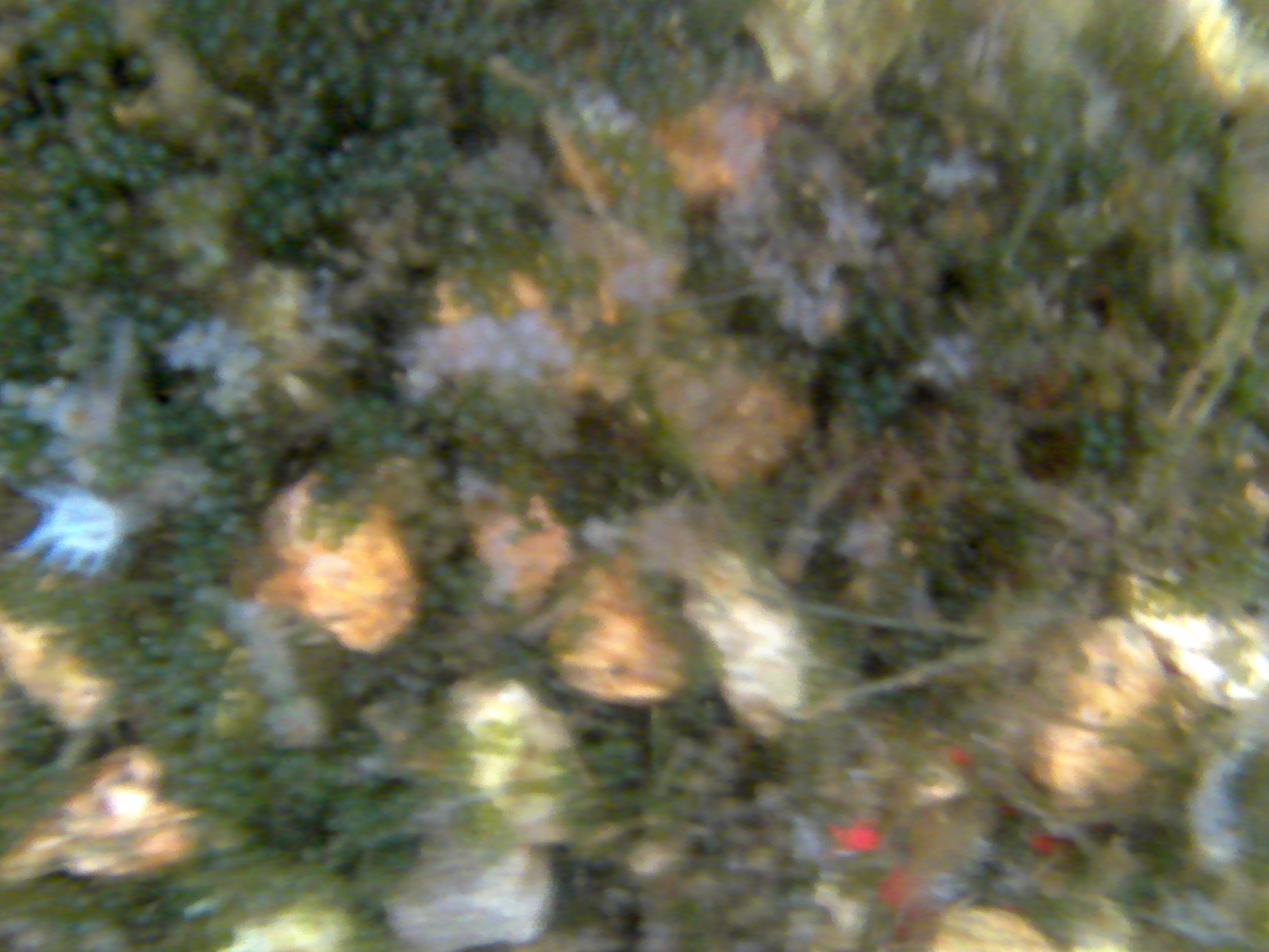Darkening: (754, 780, 785, 813)
Harvestable: (196, 739, 225, 765), (83, 60, 109, 86), (480, 424, 506, 449), (1043, 143, 1068, 167), (1017, 133, 1041, 158), (400, 67, 426, 90), (685, 47, 709, 71), (136, 293, 159, 317), (194, 493, 218, 516), (292, 18, 314, 43), (1084, 426, 1107, 449), (200, 34, 223, 57), (141, 419, 165, 441), (57, 26, 81, 48), (243, 171, 265, 194), (162, 304, 185, 326), (139, 442, 162, 464), (374, 90, 396, 112), (1133, 387, 1155, 409), (423, 588, 446, 609), (381, 430, 404, 451), (86, 155, 109, 176), (213, 471, 236, 492), (224, 423, 246, 444), (1104, 446, 1125, 468), (83, 88, 105, 109), (423, 214, 444, 236), (341, 135, 365, 154), (138, 322, 159, 343), (1078, 445, 1099, 466), (875, 373, 896, 394), (333, 468, 354, 489), (374, 65, 395, 86), (243, 45, 264, 66), (243, 210, 263, 232), (319, 197, 339, 219), (376, 143, 399, 162), (148, 143, 169, 163), (1103, 413, 1124, 433), (304, 76, 324, 97), (130, 56, 150, 77), (124, 167, 145, 187), (437, 194, 458, 214), (357, 436, 379, 455), (327, 152, 347, 172), (371, 110, 391, 130), (305, 157, 324, 178), (251, 413, 272, 432), (407, 141, 430, 158), (865, 318, 884, 338), (45, 196, 65, 215), (340, 195, 359, 215), (622, 142, 642, 161), (147, 166, 166, 185), (204, 429, 223, 448), (292, 199, 310, 219), (75, 186, 95, 204), (846, 382, 866, 400), (435, 144, 457, 160), (267, 160, 285, 179), (281, 67, 300, 85), (301, 109, 319, 128), (263, 227, 281, 246), (307, 42, 326, 60), (324, 62, 342, 81), (82, 200, 101, 218), (41, 332, 60, 350), (105, 162, 123, 180), (220, 452, 238, 469), (45, 158, 63, 175), (12, 97, 30, 114), (282, 178, 297, 198), (287, 45, 304, 62), (272, 123, 289, 139), (263, 193, 281, 208), (351, 99, 367, 115), (286, 146, 300, 162), (419, 126, 431, 141)
Whitening: (0, 381, 25, 406), (801, 324, 823, 351), (779, 305, 797, 333), (952, 360, 973, 383), (495, 350, 520, 369), (528, 338, 549, 360), (414, 367, 437, 387), (933, 335, 952, 359), (456, 351, 477, 371), (917, 360, 937, 381), (648, 259, 667, 281), (240, 375, 260, 394), (486, 320, 505, 340), (439, 358, 460, 376), (514, 315, 534, 333), (553, 345, 571, 364), (472, 345, 492, 362), (524, 362, 541, 381), (797, 296, 813, 315), (177, 334, 192, 354), (49, 377, 66, 394), (438, 329, 458, 343), (206, 337, 222, 354), (957, 338, 973, 355), (626, 287, 643, 303), (220, 363, 238, 378), (230, 330, 245, 347), (212, 322, 227, 338), (418, 347, 435, 361), (941, 375, 956, 390), (192, 323, 206, 339), (421, 332, 438, 345), (242, 349, 257, 363), (192, 352, 204, 368), (402, 348, 416, 361), (413, 389, 427, 402), (172, 352, 184, 367), (217, 400, 228, 415), (206, 391, 216, 406), (216, 388, 226, 399), (234, 388, 245, 398)
